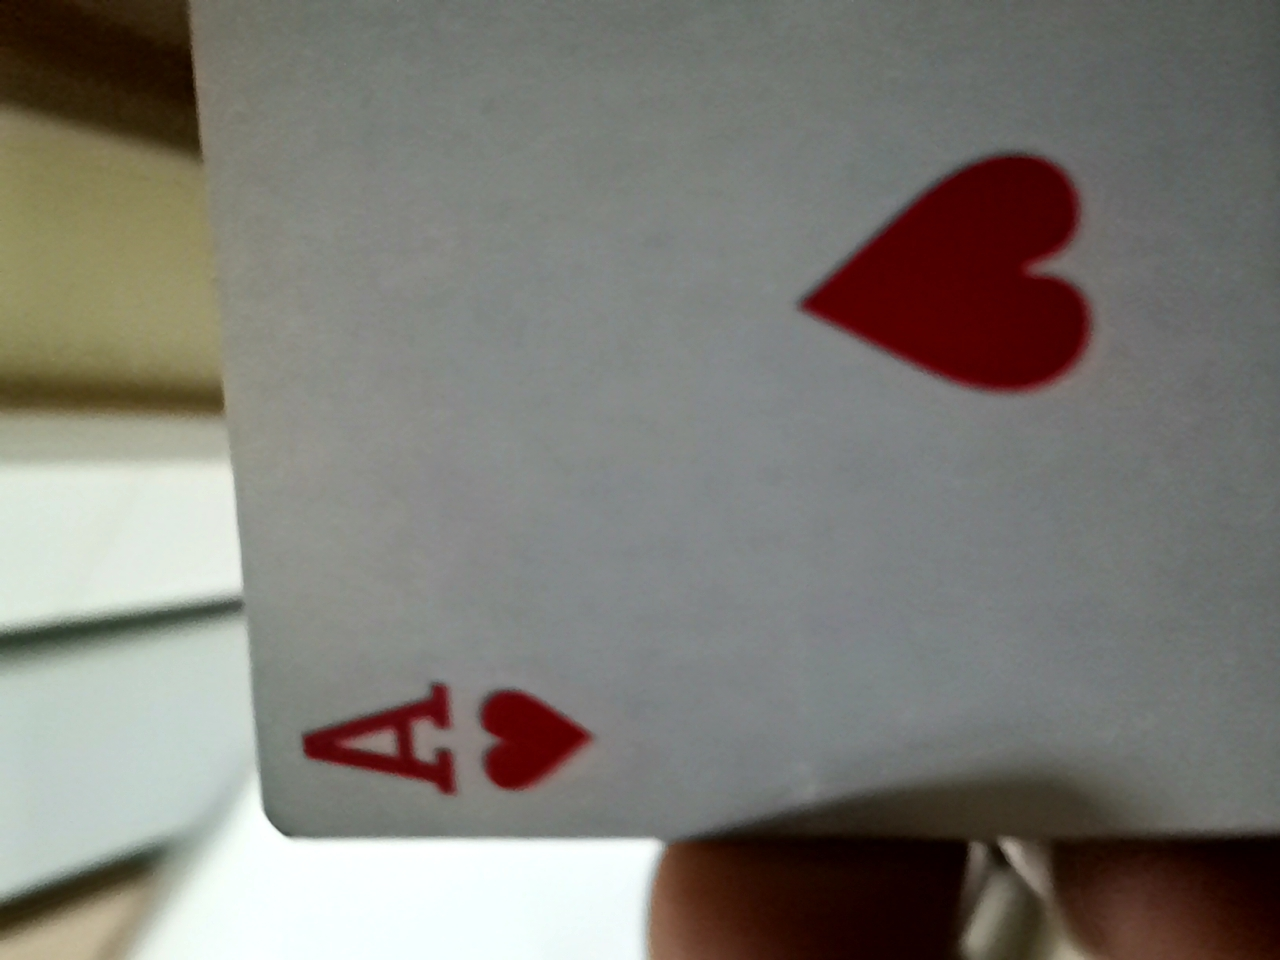hx a: (101, 7, 1263, 938)
